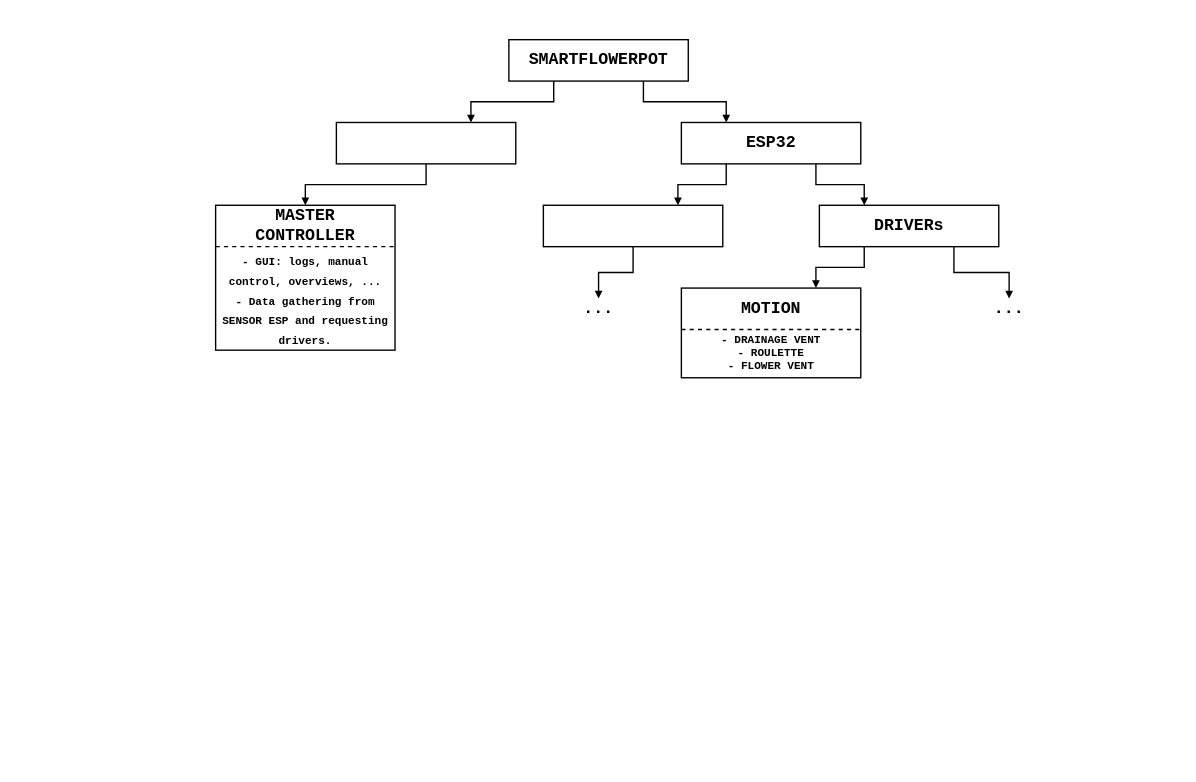
This 1196x782 diagram has some shape labels left out. Here are the shapes that lost their labels. From the top down, the box of each, then its label:
(335, 121, 516, 164): RPIs
(542, 204, 723, 247): SENSORs
